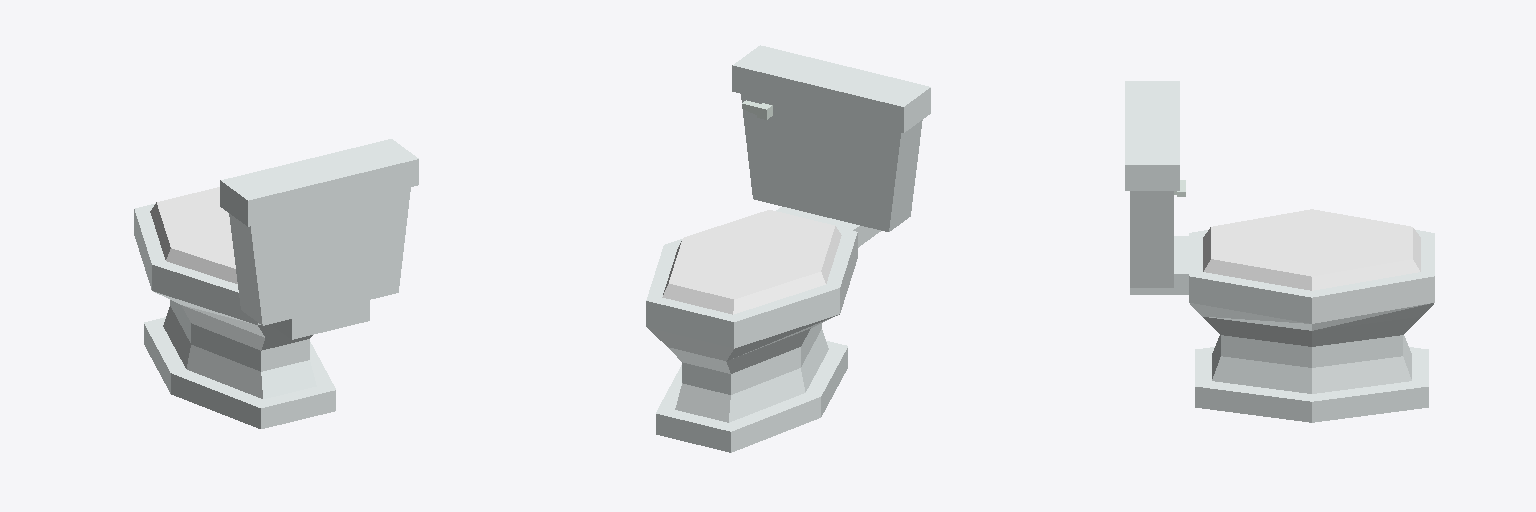
Rendered from toilet.obj.
3 views of the same model, side by side, from view 1: azimuth 30°, elevation 25°; view 2: azimuth 150°, elevation 25°; view 3: azimuth 270°, elevation 25° (orthographic).
Visible parts, largest first — view 1: toilet, cover; view 2: toilet, cover; view 3: toilet, cover.
Boxes of the visible parts, <box> form: toilet: <box>134,139,418,428</box>; cover: <box>150,187,237,283</box>; toilet: <box>646,45,930,452</box>; cover: <box>662,210,841,314</box>; toilet: <box>1125,81,1434,422</box>; cover: <box>1203,209,1420,290</box>.
Size of the model in its own units: 0.3126 by 0.451 by 0.4772.